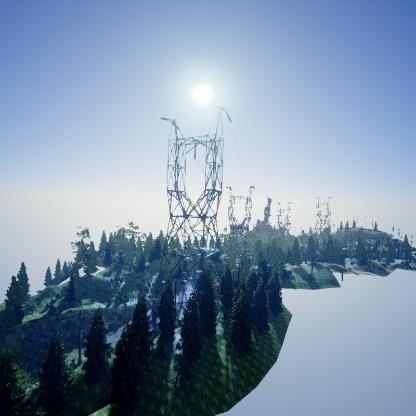tower: (157, 104, 235, 293), (223, 182, 256, 262)
